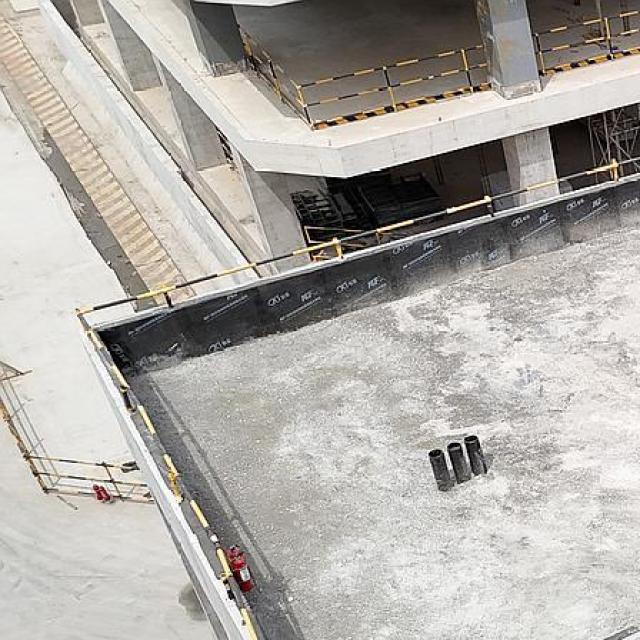edge_guardrail: (74, 157, 640, 640), (243, 9, 640, 125), (303, 225, 408, 248), (216, 130, 234, 163)
